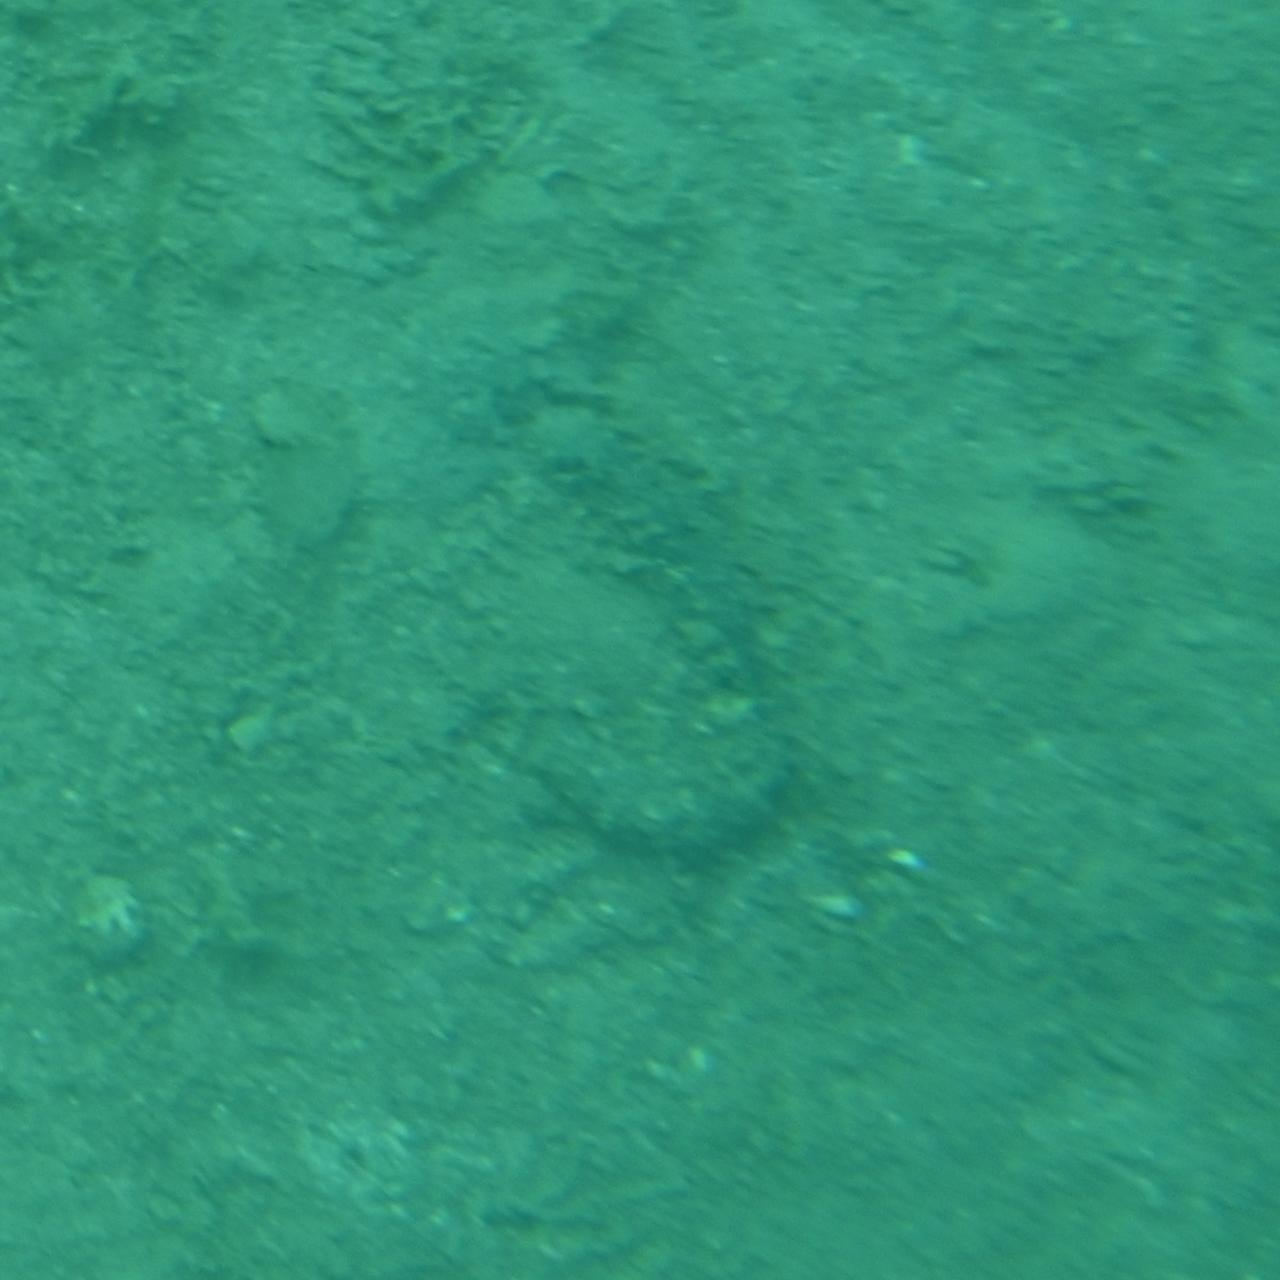Holothuria tubulosa: (460, 400, 820, 880)
